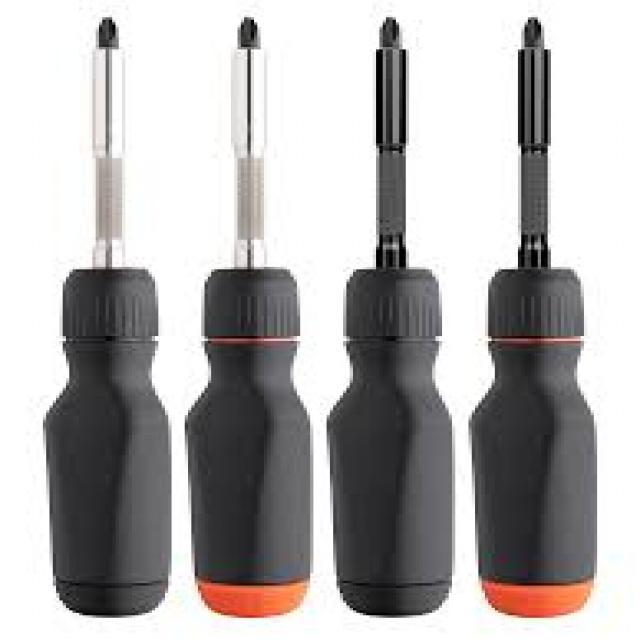screwdriver: (324, 11, 460, 617), (185, 9, 316, 622), (43, 12, 175, 620), (465, 12, 597, 616)
